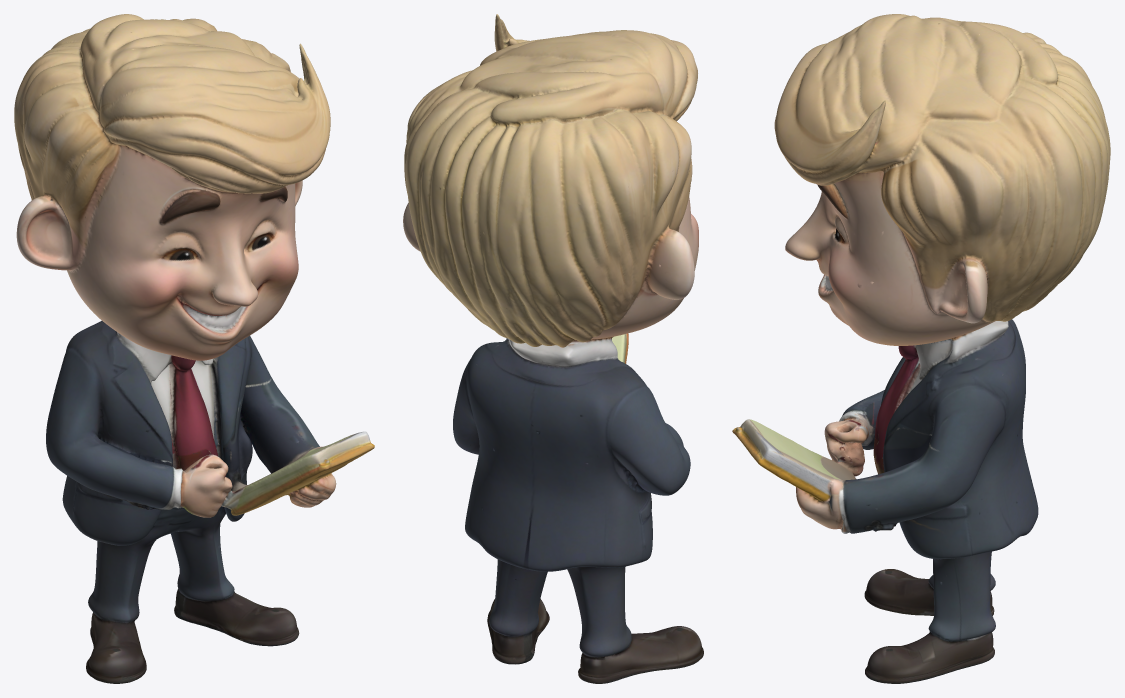
File: minister.glb
3 views of the same model, side by side, from view 1: azimuth 30°, elevation 25°; view 2: azimuth 150°, elevation 25°; view 3: azimuth 270°, elevation 25° (orthographic).
Bounding box in the file's own units: 32613 × 65428 × 37631.
Materials: 1 (1 with a texture image).
